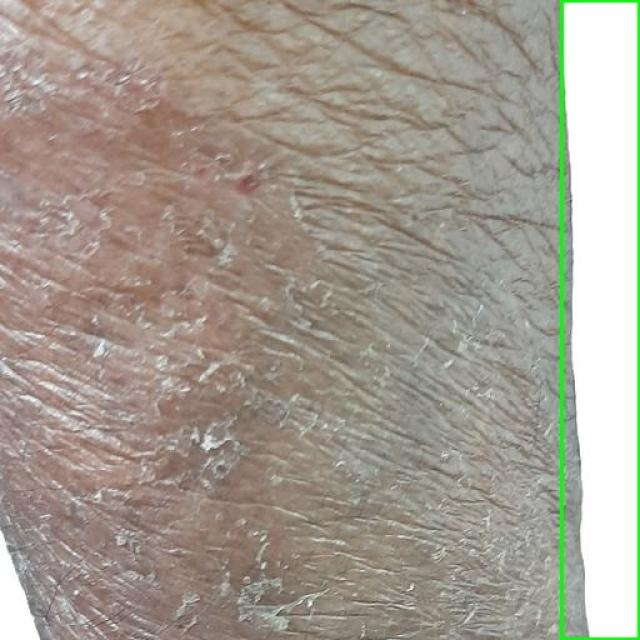Tinea Corporis: (561, 0, 639, 639)
